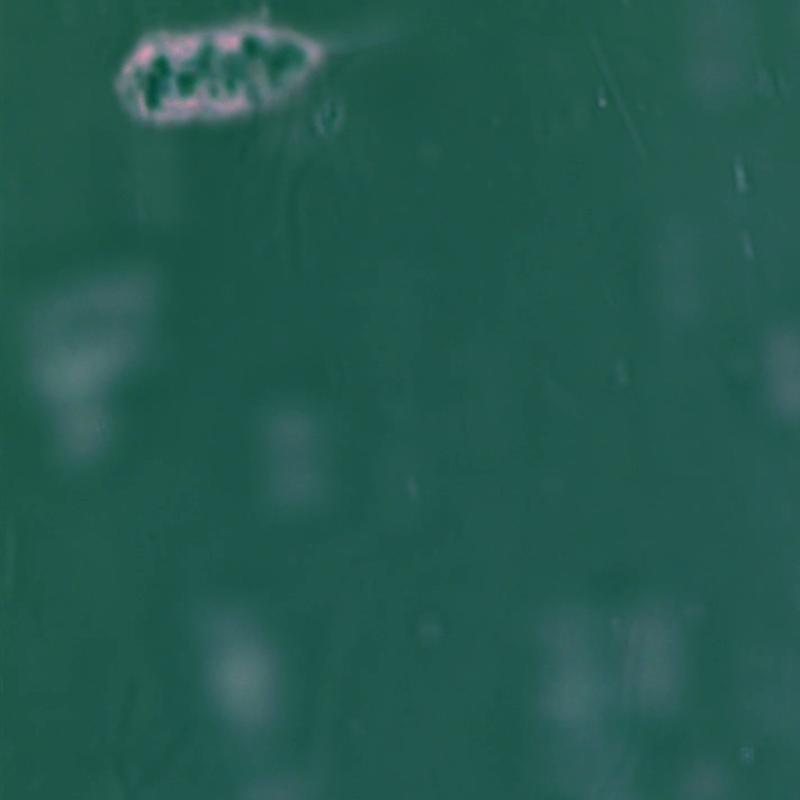depth:80: (19, 6, 450, 171)
